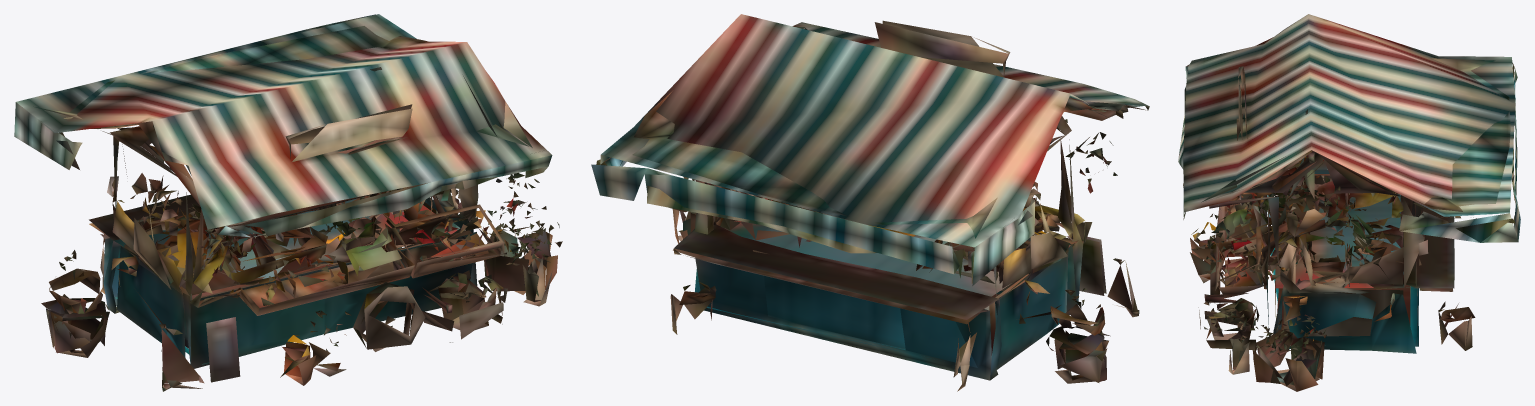
Rendered from Farmers_Market_Cart_town.glb.
The picture shows the model from 3 angles, left to right: view 1: azimuth 30°, elevation 25°; view 2: azimuth 150°, elevation 25°; view 3: azimuth 270°, elevation 25°; orthographic projection. The views are drawn at different scales.
Visible parts, largest first — view 1: Farmers_Market_Cart; view 2: Farmers_Market_Cart; view 3: Farmers_Market_Cart.
Part boxes in pixels (<box>): Farmers_Market_Cart: <box>14,14,562,391</box>; Farmers_Market_Cart: <box>591,14,1149,391</box>; Farmers_Market_Cart: <box>1178,14,1520,391</box>.
Bounding box in the file's own units: 1.86 × 0.9306 × 1.36.
Materials: 1 (1 with a texture image).
